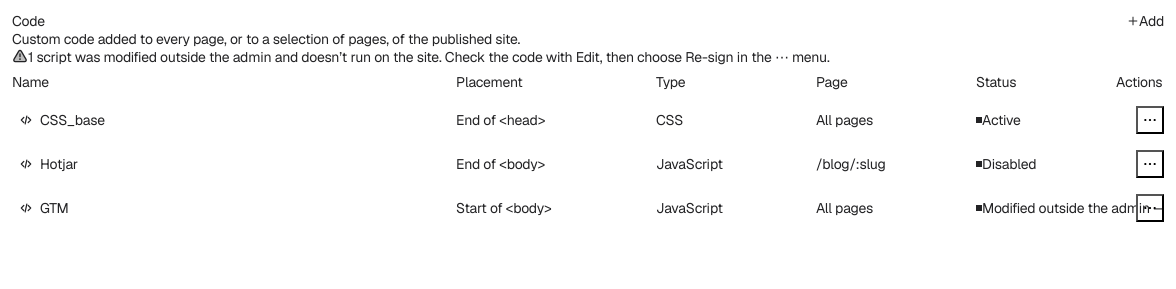
CodeScreen › SEC-04 : script modifié hors de l’admin signalé, pas de Re-sign sur un script signé
Expected: the text "1 script was modified outside the admin" is shown, [28, 48, 830, 66]
Click the button named "Actions for CSS_base" at (1150, 120), box [1136, 106, 1164, 134]
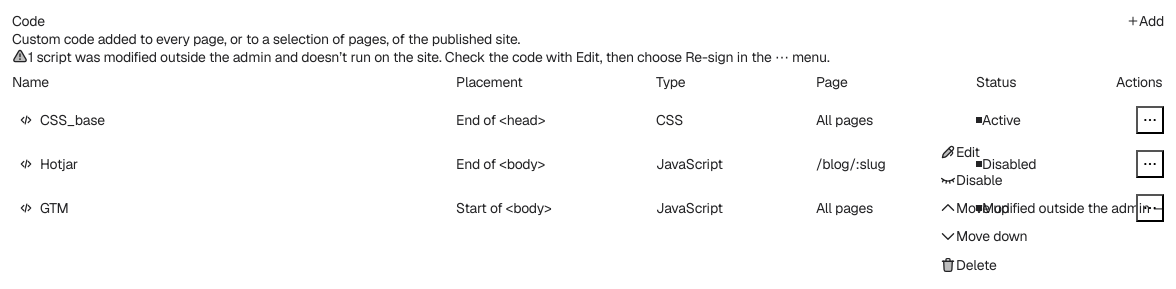
Expected: the menu item "Edit" is shown, [940, 143, 980, 161]
